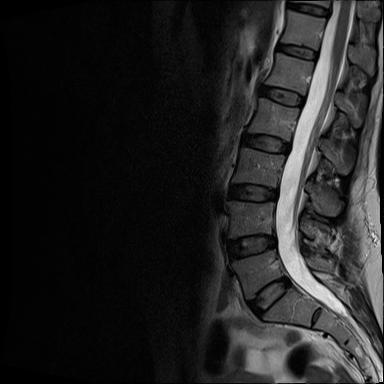Normal IVD: (242, 271, 293, 321), (226, 229, 281, 264), (254, 81, 307, 110), (241, 130, 295, 157), (223, 181, 284, 204), (273, 40, 320, 63), (287, 1, 333, 20)
